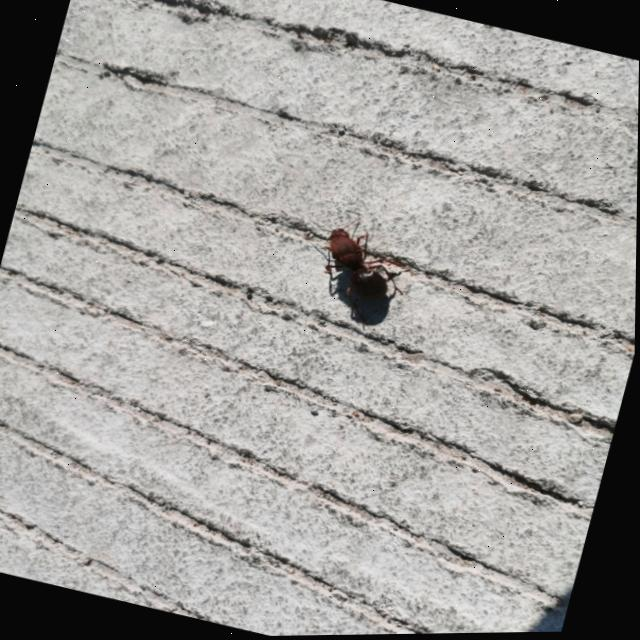Alive-Female-Dealate: (290, 206, 421, 321)
